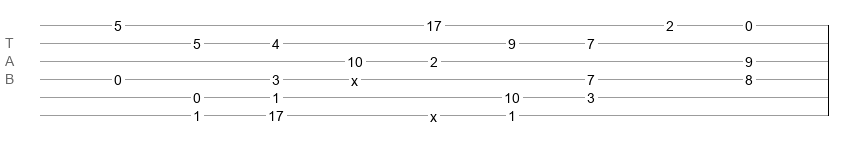0: (114, 72, 122, 82), (193, 90, 201, 100), (745, 18, 753, 28)
1: (193, 108, 201, 118), (272, 90, 280, 100), (508, 108, 516, 118)
10: (347, 54, 363, 64), (504, 90, 520, 100)
17: (268, 108, 284, 118), (426, 18, 442, 28)
2: (430, 54, 438, 64), (666, 18, 674, 28)
3: (272, 72, 280, 82), (587, 90, 595, 100)
4: (272, 36, 280, 46)
5: (114, 18, 122, 28), (193, 36, 201, 46)
7: (587, 72, 595, 82), (587, 36, 595, 46)
8: (745, 72, 753, 82)
9: (508, 36, 516, 46), (745, 54, 753, 64)
x: (351, 73, 358, 81), (430, 109, 437, 117)
